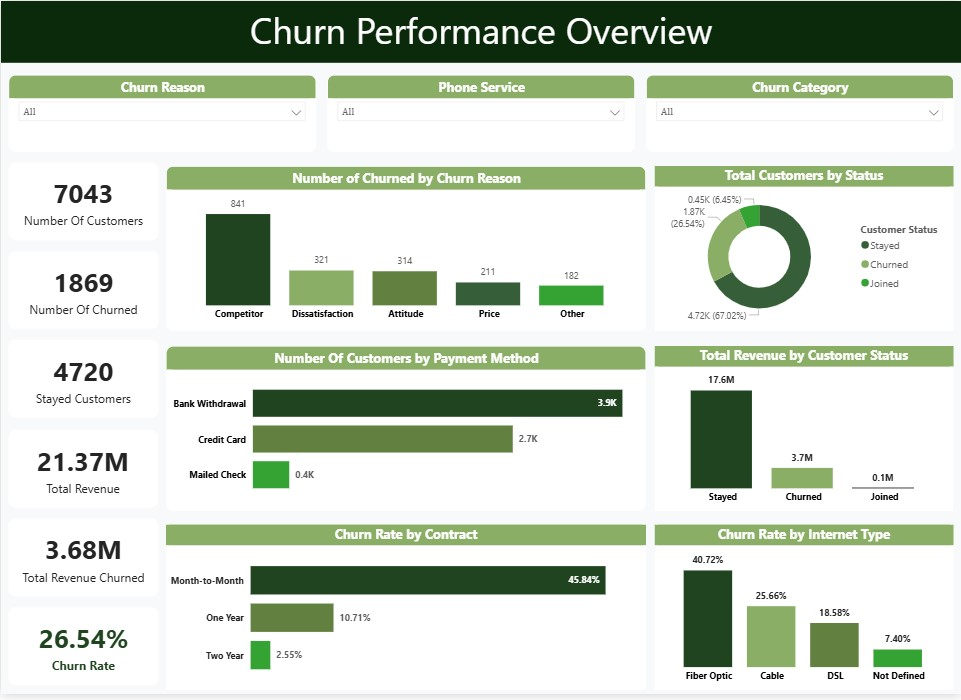

Layout of this report page (visuals, bound fields, positions):
{"tool":"powerbi","page":{"name":"Churn Performance Overview","canvas":[1280,924],"ordinal":0},"visuals":[{"type":"textbox","box":[0,0,1280.3,82.3],"z":0},{"type":"card","fields":{"Values":["#M__Measures.Number Of Numbers"]},"box":[10,215.5,200.3,104.3],"z":1000},{"type":"card","fields":{"Values":["#M__Measures.Number Of Churned"]},"box":[10,334,200.3,104.3],"z":2000},{"type":"card","fields":{"Values":["#M__Measures.Churn Rate"]},"box":[10,807.8,200.3,104.3],"z":3000},{"type":"card","fields":{"Values":["#M__Measures.Stayed Customers"]},"box":[10,452.4,200.3,104.3],"z":4000},{"type":"card","fields":{"Values":["#M__Measures.Total Revnue"]},"box":[10,570.9,199,104.3],"z":5000},{"type":"card","fields":{"Values":["#M__Measures.Total Revnue Churned"]},"box":[10,689.4,200.3,104.3],"z":6000},{"type":"clusteredColumnChart","title":"Number of Churned by Churn Reason","fields":{"Category":["telecom_customer_churn.Churn Category"],"Y":["#M__Measures.Number Of Churned"]},"box":[220,220.6,640,220],"z":7000},{"type":"clusteredBarChart","fields":{"Category":["telecom_customer_churn.Payment Method"],"Y":["#M__Measures.Number Of Customers"]},"box":[220,459.4,640,220],"z":8000},{"type":"slicer","title":"Churn Reason","fields":{"Values":["telecom_customer_churn.Churn Reason"]},"box":[10,98,410,103.3],"z":9000},{"type":"slicer","title":"Phone Service","fields":{"Values":["telecom_customer_churn.Phone Service"]},"box":[435,98.3,410,103.3],"z":10000},{"type":"slicer","title":"Churn Category","fields":{"Values":["telecom_customer_churn.Churn Category"]},"box":[860,98.3,410,103.3],"z":11000},{"type":"donutChart","title":"Total Customers by Status","fields":{"Category":["telecom_customer_churn.Customer Status"],"Y":["CountNonNull(telecom_customer_churn.Customer ID)"]},"box":[871.7,220.4,398.3,220],"z":12000},{"type":"barChart","fields":{"Category":["telecom_customer_churn.Contract"],"Y":["#M__Measures.Churn Rate"]},"box":[220,698.3,640,220],"z":13000},{"type":"columnChart","fields":{"Category":["telecom_customer_churn.Customer Status"],"Y":["#M__Measures.Total Revnue"]},"box":[872,459.2,398,220],"z":14000},{"type":"clusteredColumnChart","fields":{"Category":["telecom_customer_churn.Internet Type"],"Y":["#M__Measures.Churn Rate"]},"box":[872,698,398,220],"z":15000}]}

Visuals, with their boxes in screenshot pixels (x1, y1, x2, y2), scaled from the page's 1280x924 canvas onto the 961x700 screenshot:
textbox: box(0, 0, 960, 62)
card - #M__Measures.Number Of Numbers: box(8, 163, 158, 242)
card - #M__Measures.Number Of Churned: box(8, 253, 158, 332)
card - #M__Measures.Churn Rate: box(8, 612, 158, 691)
card - #M__Measures.Stayed Customers: box(8, 343, 158, 422)
card - #M__Measures.Total Revnue: box(8, 432, 157, 512)
card - #M__Measures.Total Revnue Churned: box(8, 522, 158, 601)
"Number of Churned by Churn Reason" clusteredColumnChart: box(165, 167, 646, 334)
clusteredBarChart - telecom_customer_churn.Payment Method x #M__Measures.Number Of Customers: box(165, 348, 646, 515)
"Churn Reason" slicer: box(8, 74, 315, 152)
"Phone Service" slicer: box(327, 74, 634, 153)
"Churn Category" slicer: box(646, 74, 953, 153)
"Total Customers by Status" donutChart: box(654, 167, 953, 334)
barChart - telecom_customer_churn.Contract x #M__Measures.Churn Rate: box(165, 529, 646, 696)
columnChart - telecom_customer_churn.Customer Status x #M__Measures.Total Revnue: box(655, 348, 953, 515)
clusteredColumnChart - telecom_customer_churn.Internet Type x #M__Measures.Churn Rate: box(655, 529, 953, 695)
